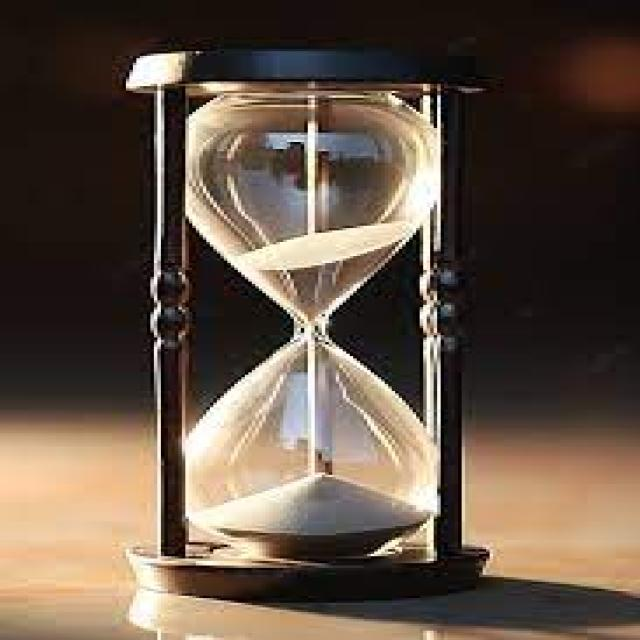clock: (99, 46, 556, 604)
